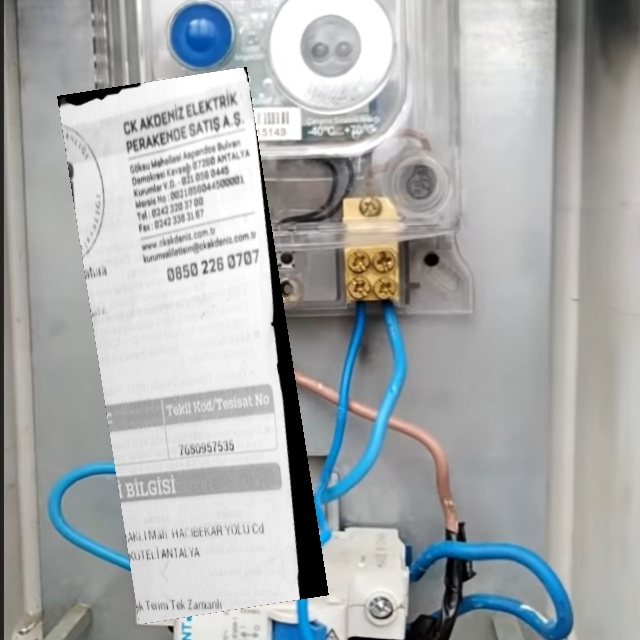electricity-bill: (56, 67, 328, 625)
